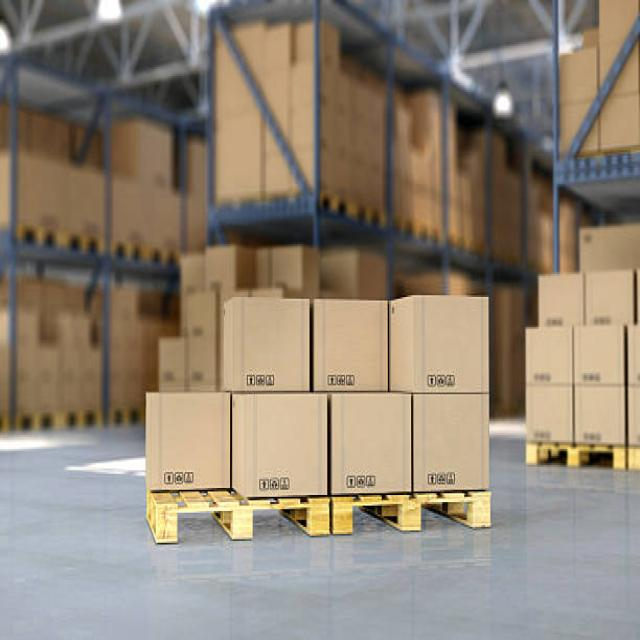Wooden-Pallets: (151, 483, 329, 551), (332, 479, 493, 545), (514, 433, 624, 491)
